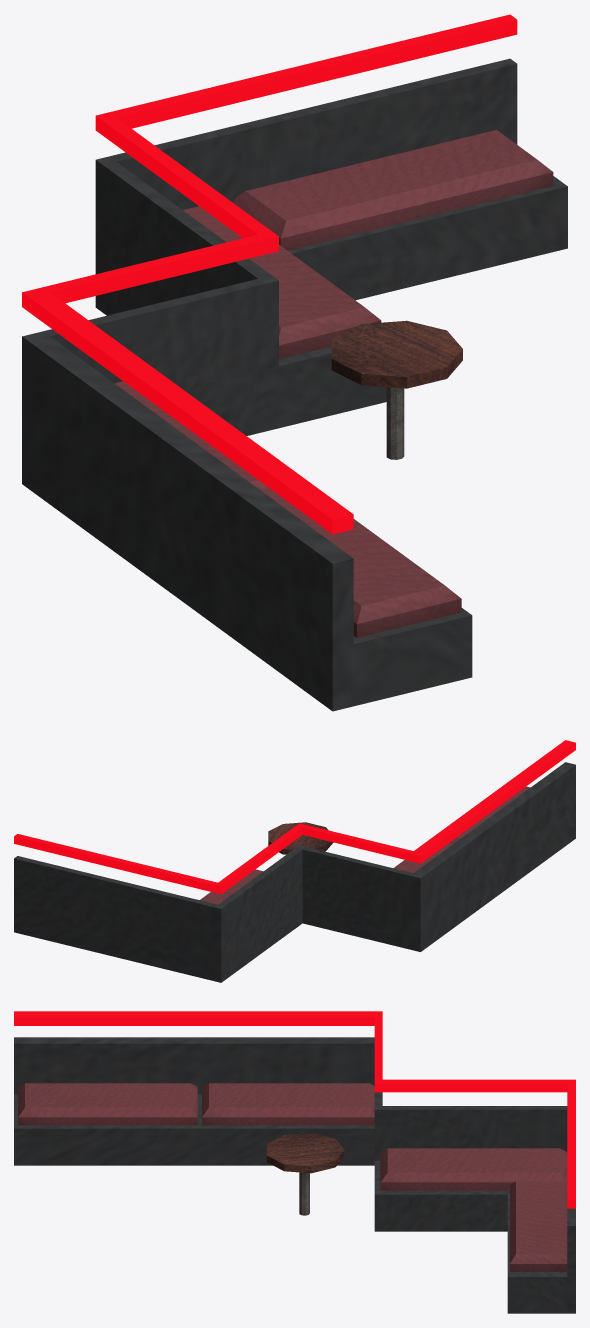
Rendered from sofa_01.glb.
3 views of the same model, one above another, from view 1: azimuth 30°, elevation 25°; view 2: azimuth 150°, elevation 25°; view 3: azimuth 270°, elevation 25° (orthographic). The views are drawn at different scales.
Visible parts, largest first — view 1: sofa1; view 2: sofa1; view 3: sofa1.
Boxes of the visible parts, bbox=[...] form: sofa1: bbox=[22, 14, 567, 711]; sofa1: bbox=[14, 740, 575, 982]; sofa1: bbox=[14, 1011, 575, 1313].
Bounding box in the file's own units: 6.79 × 1.91 × 8.55.
7 materials, 6 textured.
